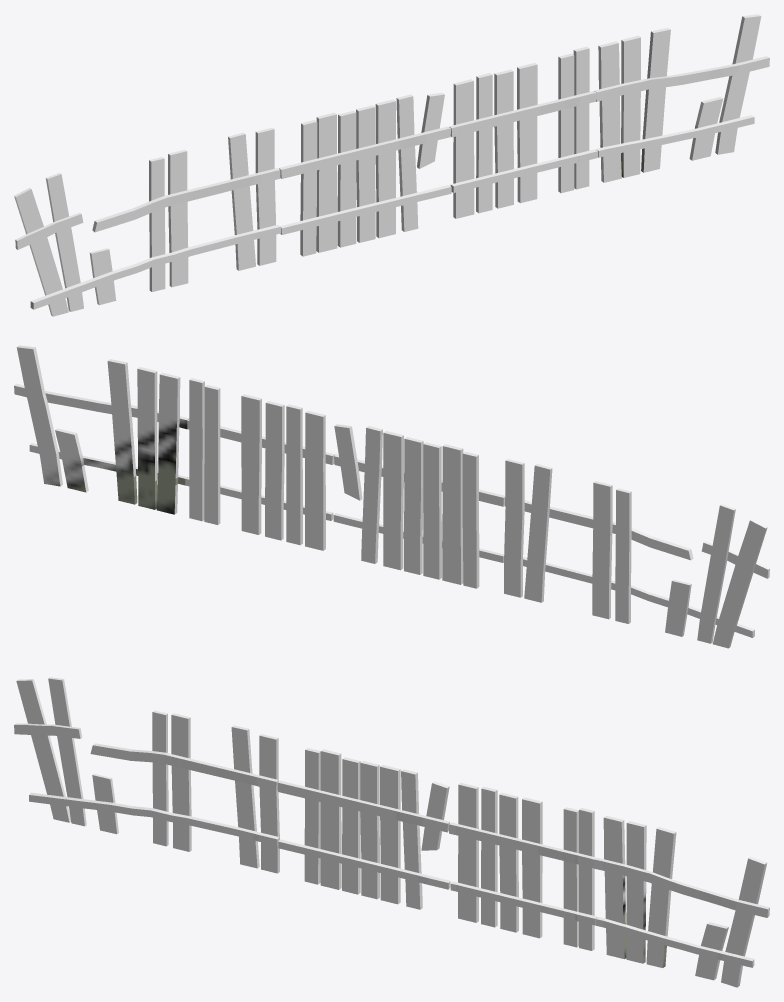
The model's file is Fence.fbx.
3 renders of one model, top to bottom at view 1: azimuth 30°, elevation 25°; view 2: azimuth 150°, elevation 25°; view 3: azimuth 330°, elevation 25°, orthographic.
Visible parts, largest first — view 1: Fence02, Fence03, Fence01, Fence04; view 2: Fence02, Fence03, Fence01, Fence04; view 3: Fence02, Fence03, Fence01, Fence04.
Boxes of the visible parts, box(x1,y1,x2,y2) form: Fence02: box(14, 127, 281, 316); Fence03: box(279, 92, 451, 256); Fence01: box(449, 46, 597, 218); Fence04: box(594, 14, 769, 182); Fence02: box(504, 459, 769, 648); Fence03: box(333, 424, 505, 588); Fence01: box(186, 378, 335, 550); Fence04: box(14, 345, 189, 514); Fence02: box(14, 677, 279, 873); Fence03: box(277, 748, 450, 909); Fence01: box(448, 783, 597, 950); Fence04: box(594, 815, 769, 987).
Size of the model in its own units: 1585 by 286 by 19.08.
